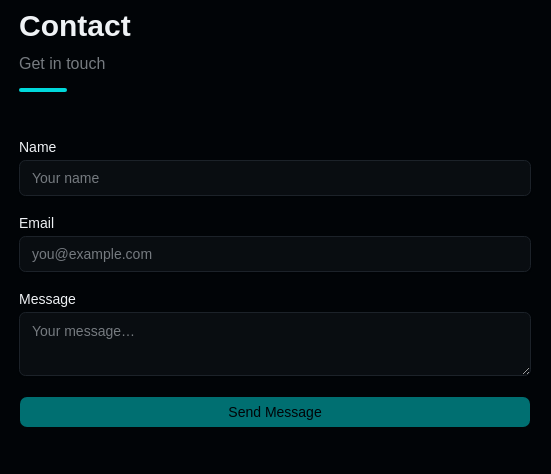
Test: Contact form › shows validation error for invalid email
Type "Alice" into the field labelled "Name" at x=275, y=178, box [19,160,531,196]
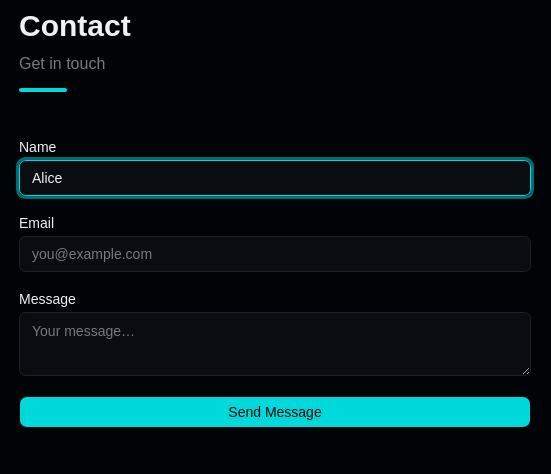
Type "not-valid" into the field labelled "Email" at x=275, y=254, box [19,236,531,272]
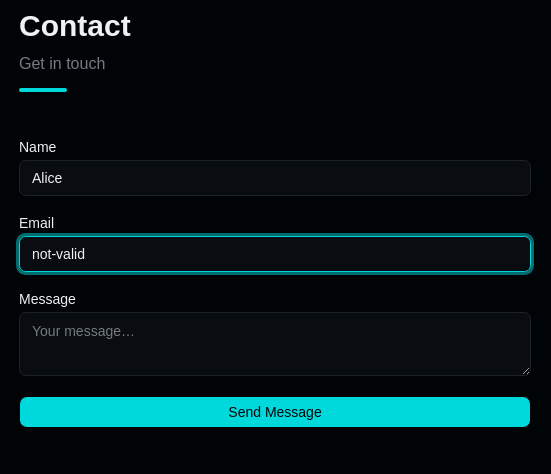
Type "A long enough message here" into the text box labelled "Message" at x=275, y=344, box [19,312,531,376]
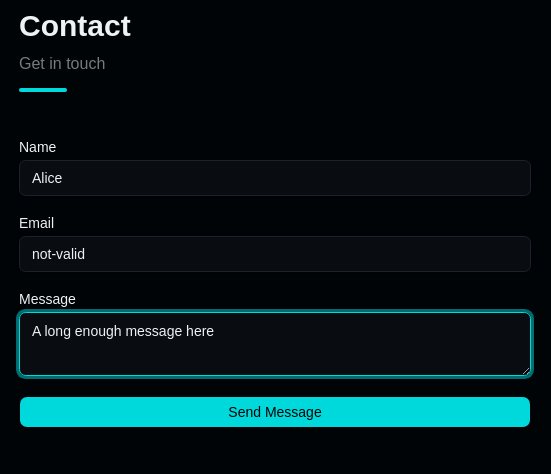
Click the button "Send Message" at x=275, y=412, box [19,396,531,428]
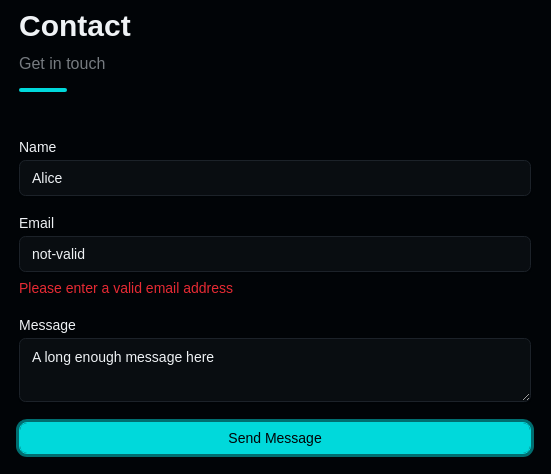
Now the text "Please enter a valid email address" is shown, box [19,280,233,296]
